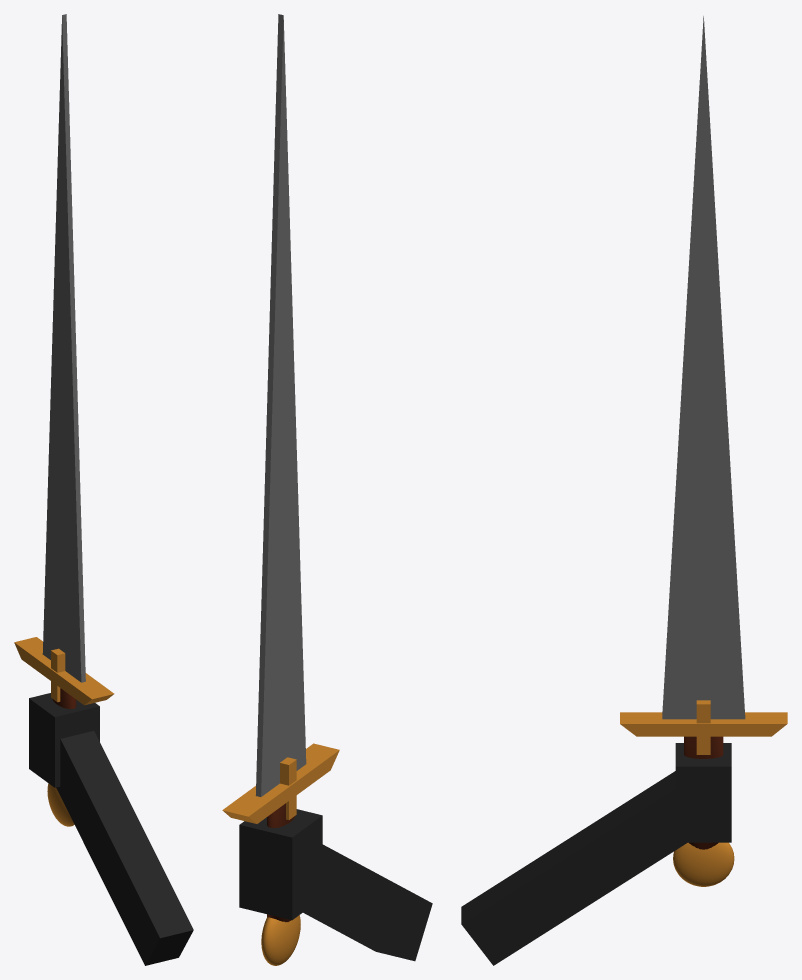
Rendered from holybladewhand.obj.
3 renders of one model, left to right at view 1: azimuth 30°, elevation 25°; view 2: azimuth 150°, elevation 25°; view 3: azimuth 270°, elevation 25°, orthographic. The views are drawn at different scales.
Parts seen in each view (by area): view 1: Cube.008; view 2: Cube.008; view 3: Cube.008.
Boxes of the visible parts, box(x1,y1,x2,y2) form: Cube.008: box(14, 14, 193, 965); Cube.008: box(222, 14, 432, 965); Cube.008: box(461, 16, 787, 965).
Bounding box in the file's own units: 1 × 18.59 × 5.83.
